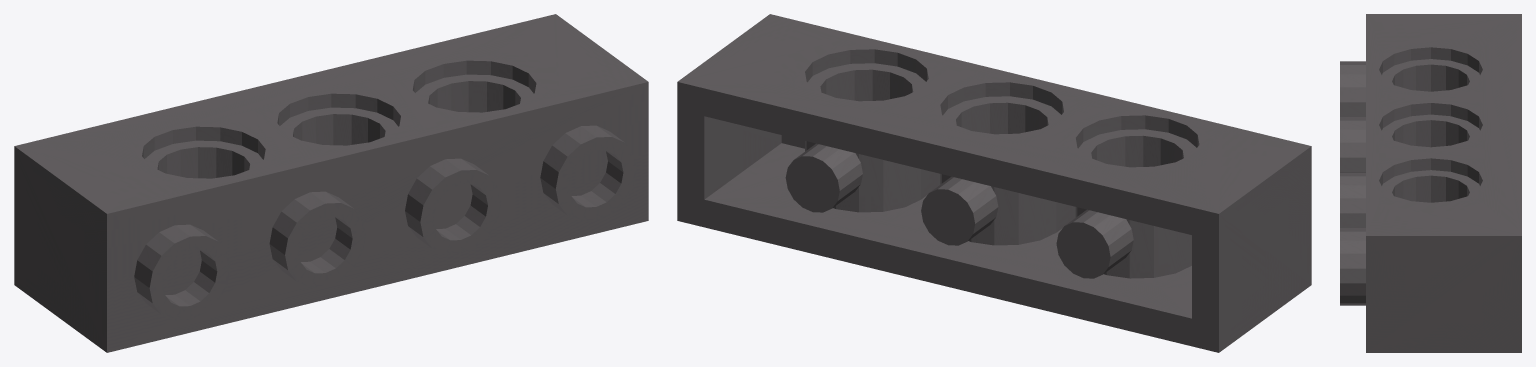
File: brick_1x4.dae
3 renders of one model, left to right at view 1: azimuth 30°, elevation 25°; view 2: azimuth 150°, elevation 25°; view 3: azimuth 270°, elevation 25°, orthographic. The views are drawn at different scales.
Visible parts, largest first — view 1: node; view 2: node; view 3: node.
Part boxes in pixels (left/top/right/bottom): node: left=14, top=14, right=648, bottom=352; node: left=677, top=14, right=1311, bottom=352; node: left=1340, top=14, right=1521, bottom=352.
Size of the model in its own units: 79.5 by 19.5 by 27.5.
1 material, 1 textured.
